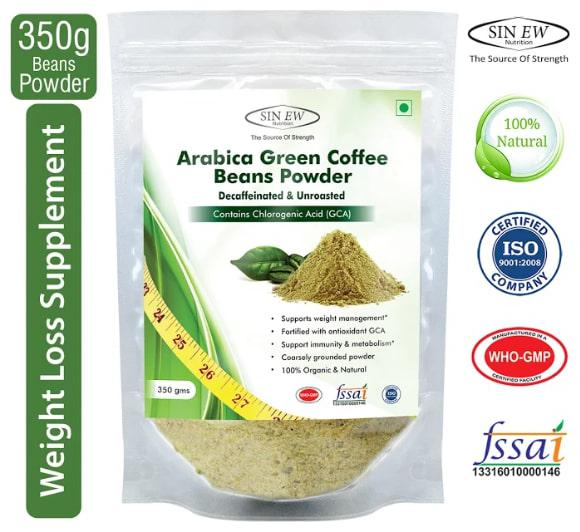fssai: (334, 382, 372, 399)
